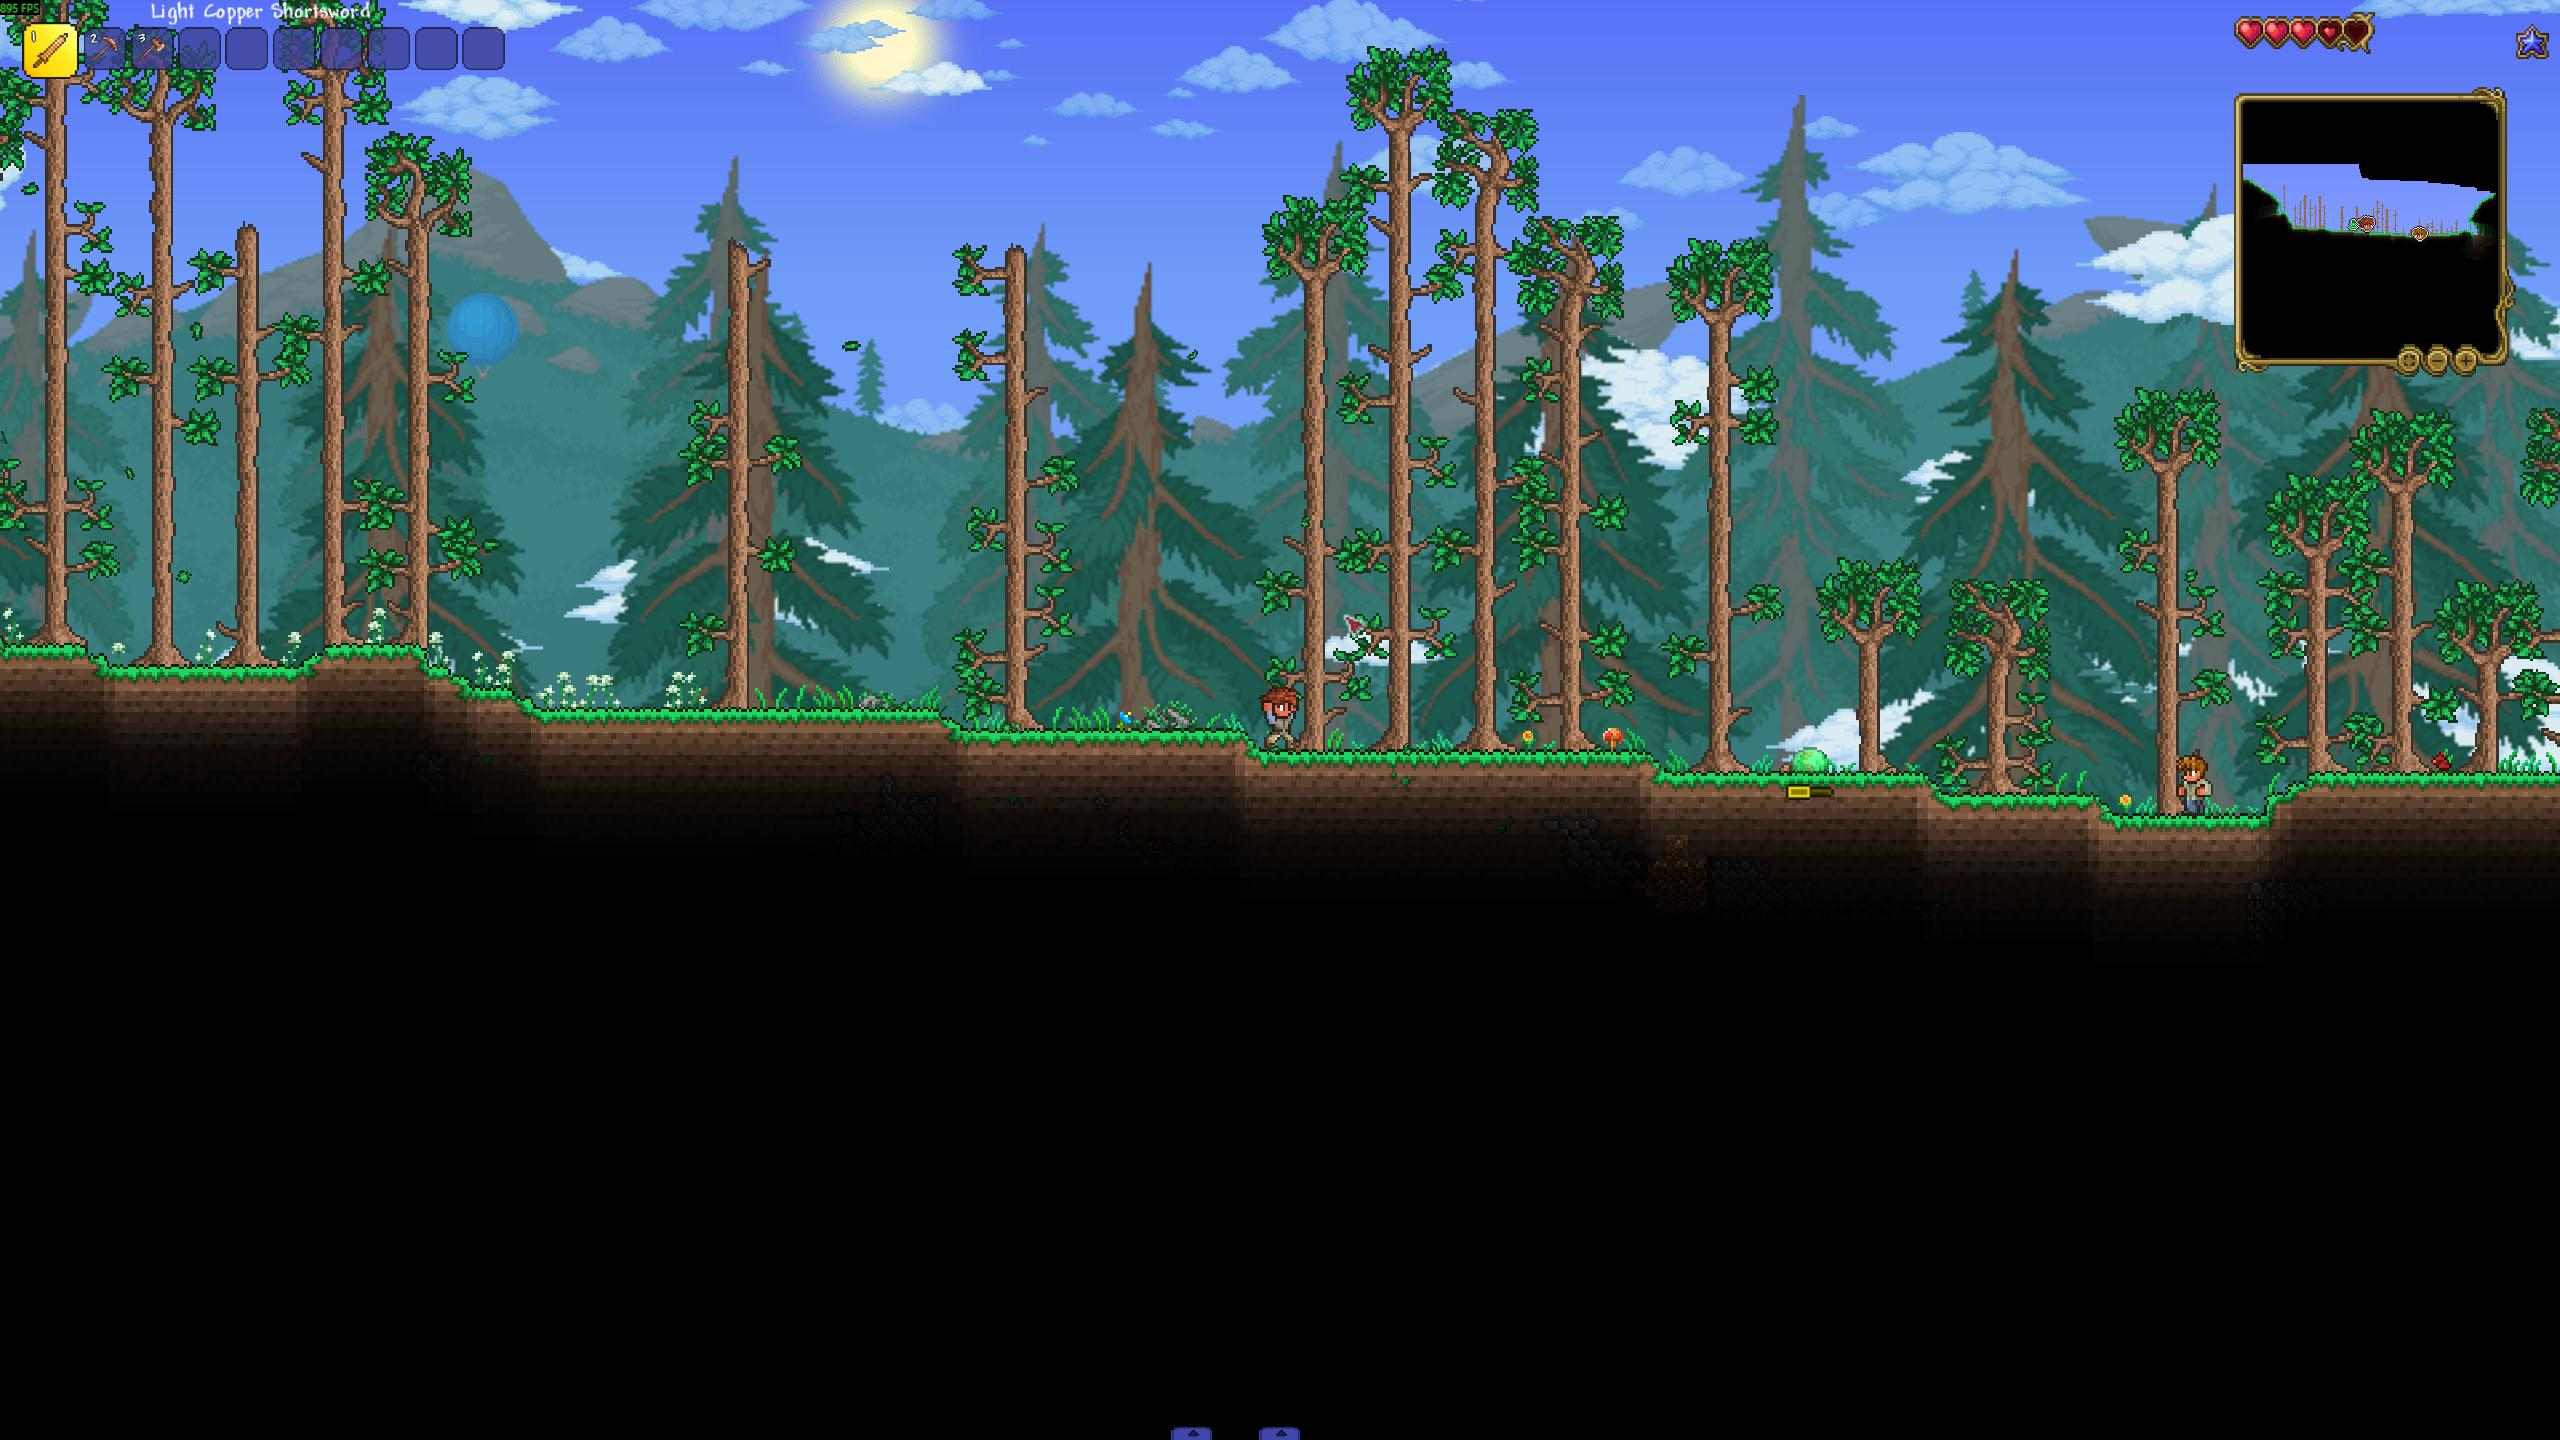Green Slime: (1785, 744, 1836, 779)
